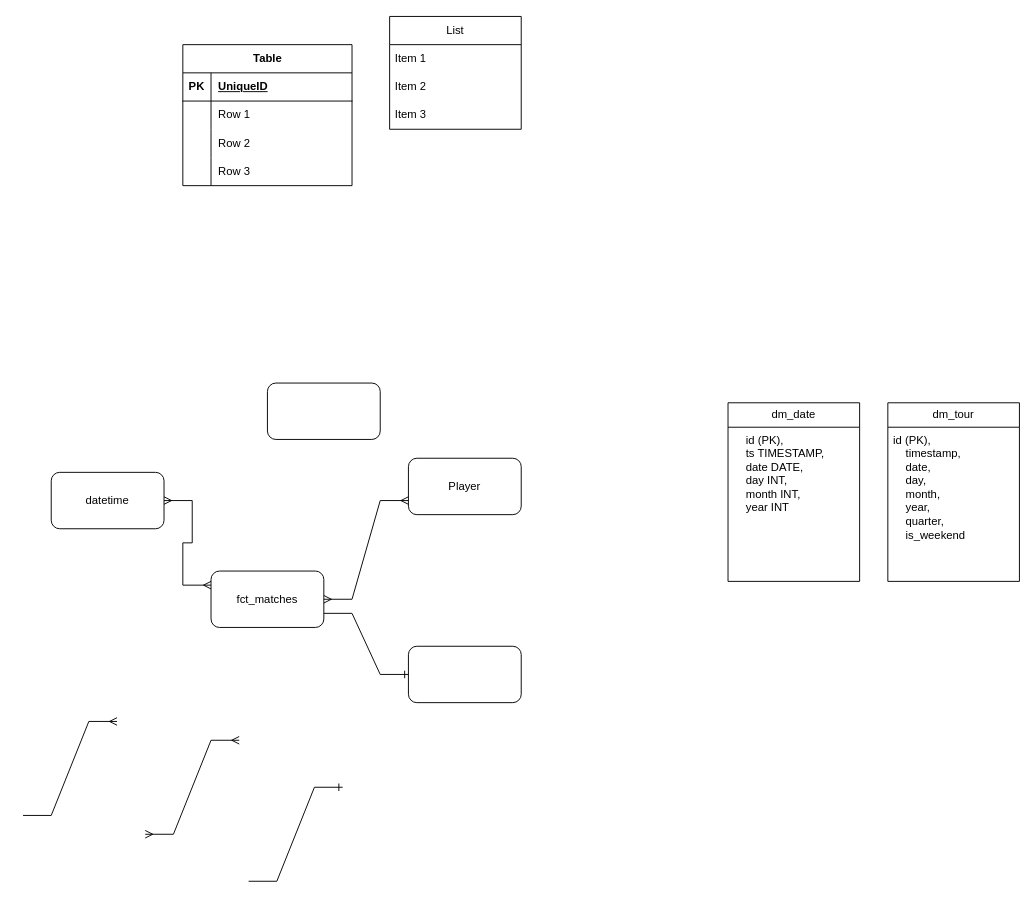
The diagram is 1036 pixels wide and 905 high, and some of its shapes have lost their labels. Each missing label, with the centre of its shape:
match_stats: pixel 464 674
Tour: pixel 323 410
